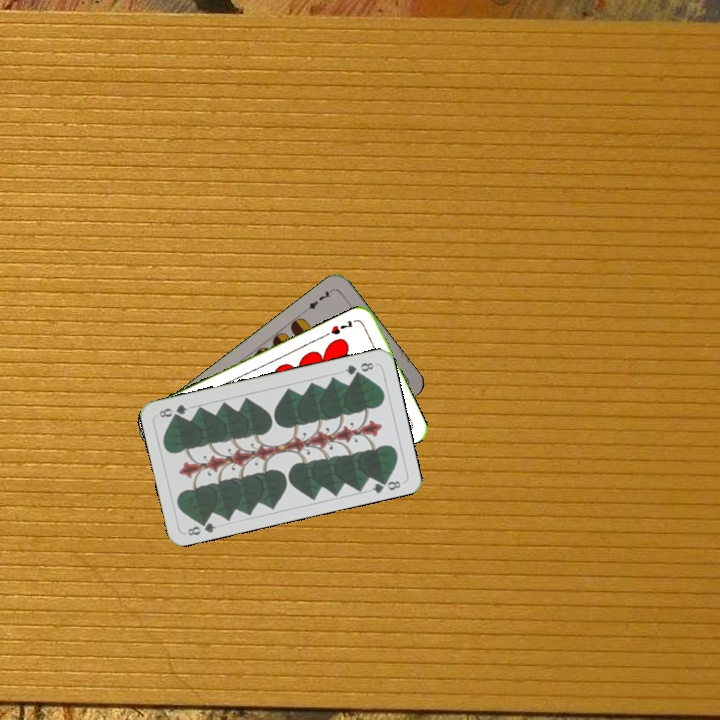E7: (301, 285, 336, 314)
G8: (183, 515, 219, 538), (341, 358, 378, 378)
H7: (327, 316, 355, 337)
